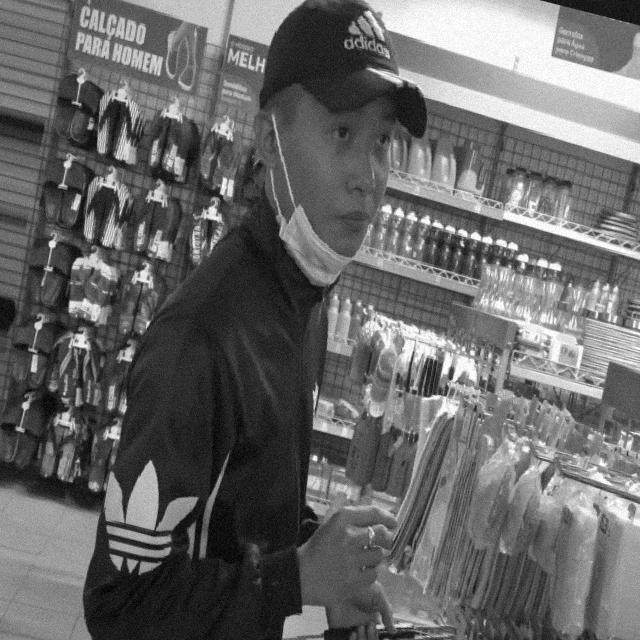hairnet: (284, 110, 374, 288)
